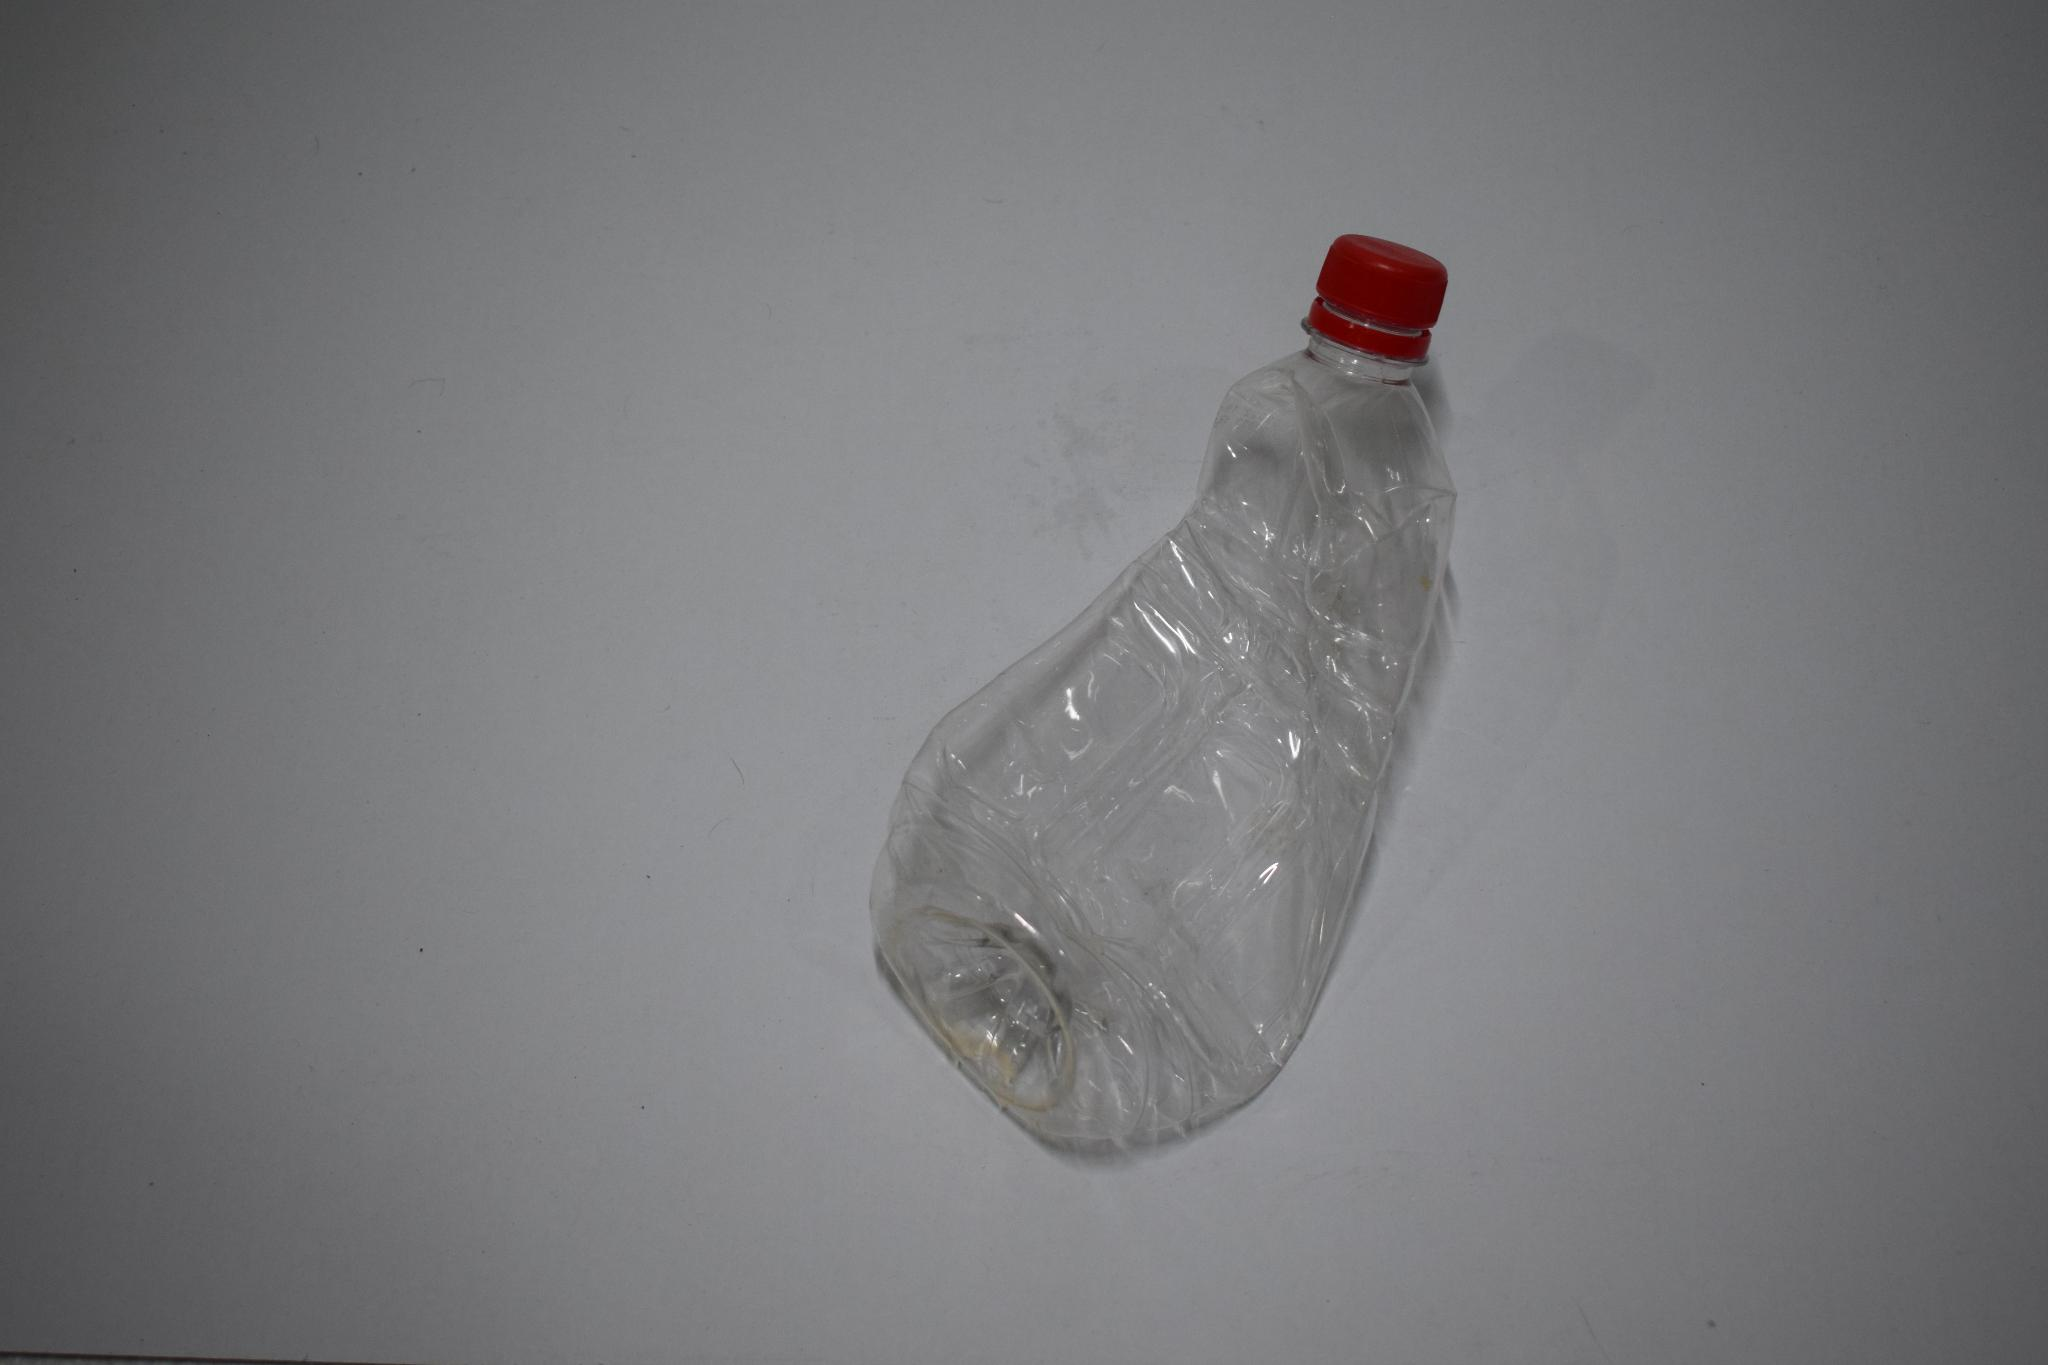bottle: (860, 194, 1496, 1178)
